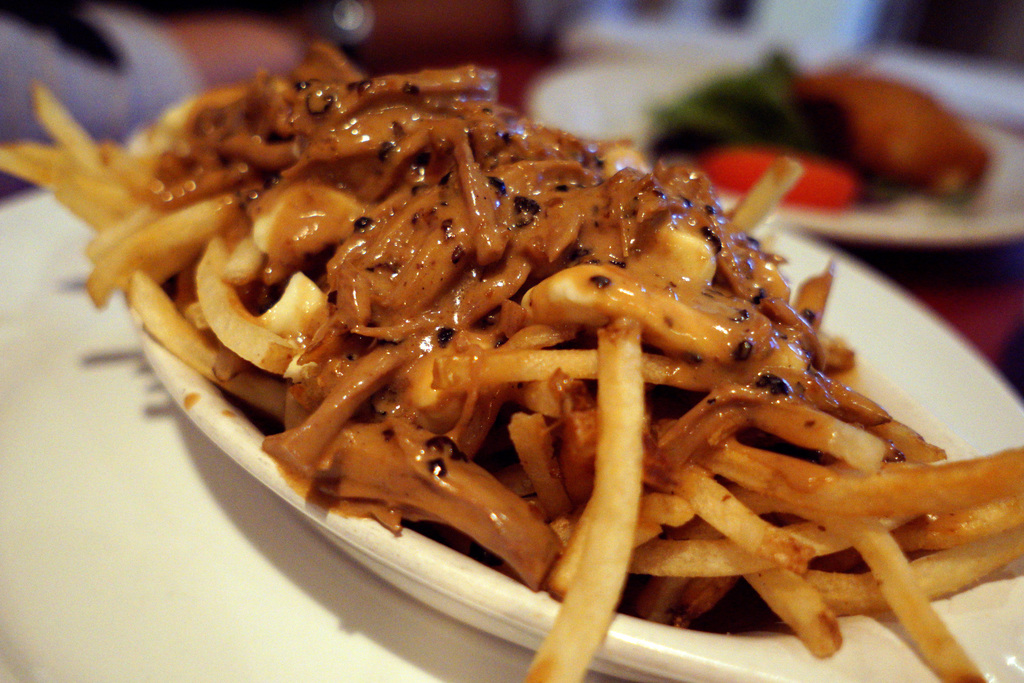French fries: (0, 66, 1023, 682)
